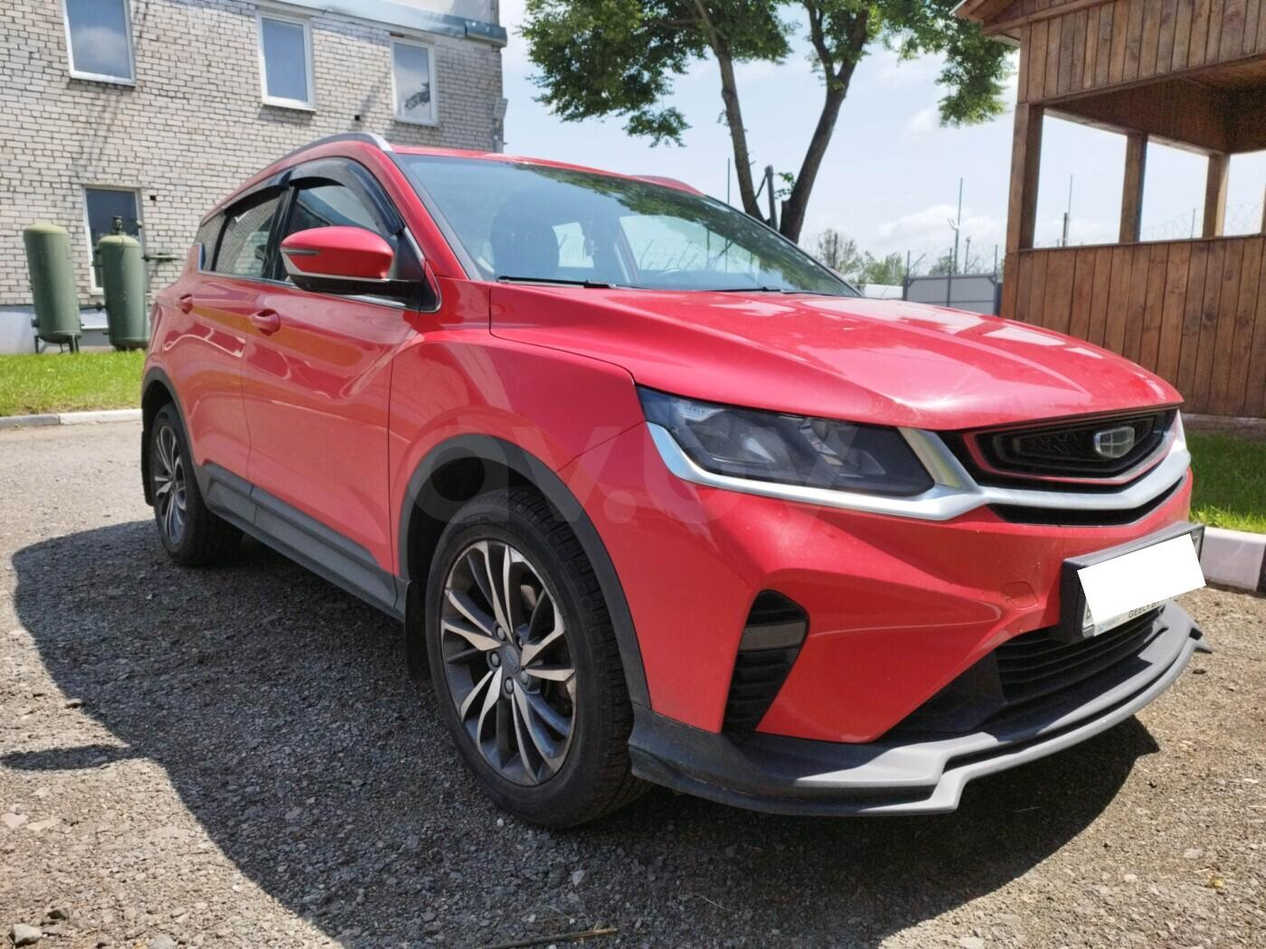Coolray_2019-2023: (136, 128, 1212, 859)
